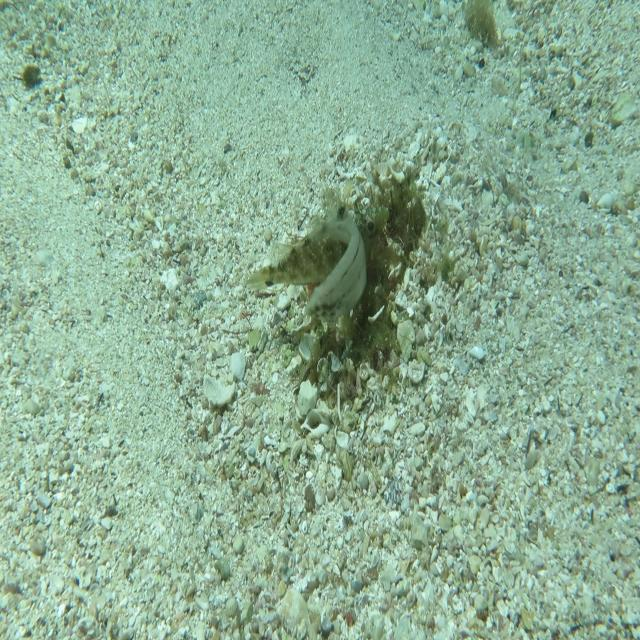FAN: (244, 196, 390, 292)
core_nest: (366, 191, 413, 247)
female: (307, 217, 368, 324)
nest: (281, 140, 441, 407)
